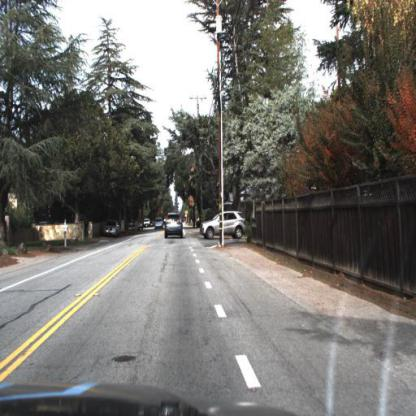car: (201, 210, 249, 238), (164, 212, 185, 242), (102, 214, 125, 240), (104, 222, 123, 238)
